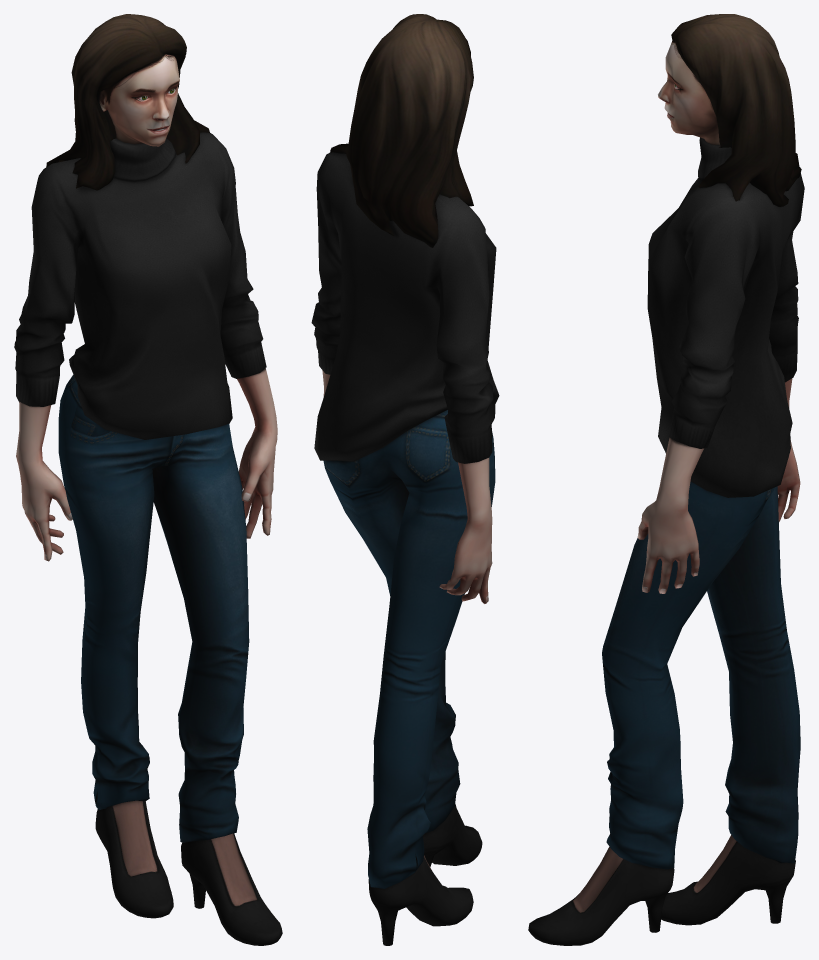
The model's file is stylized_lowpoly_female.glb.
The picture shows the model from 3 angles, left to right: view 1: azimuth 30°, elevation 25°; view 2: azimuth 150°, elevation 25°; view 3: azimuth 270°, elevation 25°; orthographic projection. The views are drawn at different scales.
Parts seen in each view (by area): view 1: Object_3; view 2: Object_3; view 3: Object_3.
Part boxes in pixels (<box>): Object_3: <box>14,14,282,945</box>; Object_3: <box>311,14,499,945</box>; Object_3: <box>528,14,804,945</box>.
Size of the model in its own units: 47.42 by 191 by 52.77.
Materials: 1 (1 with a texture image).
